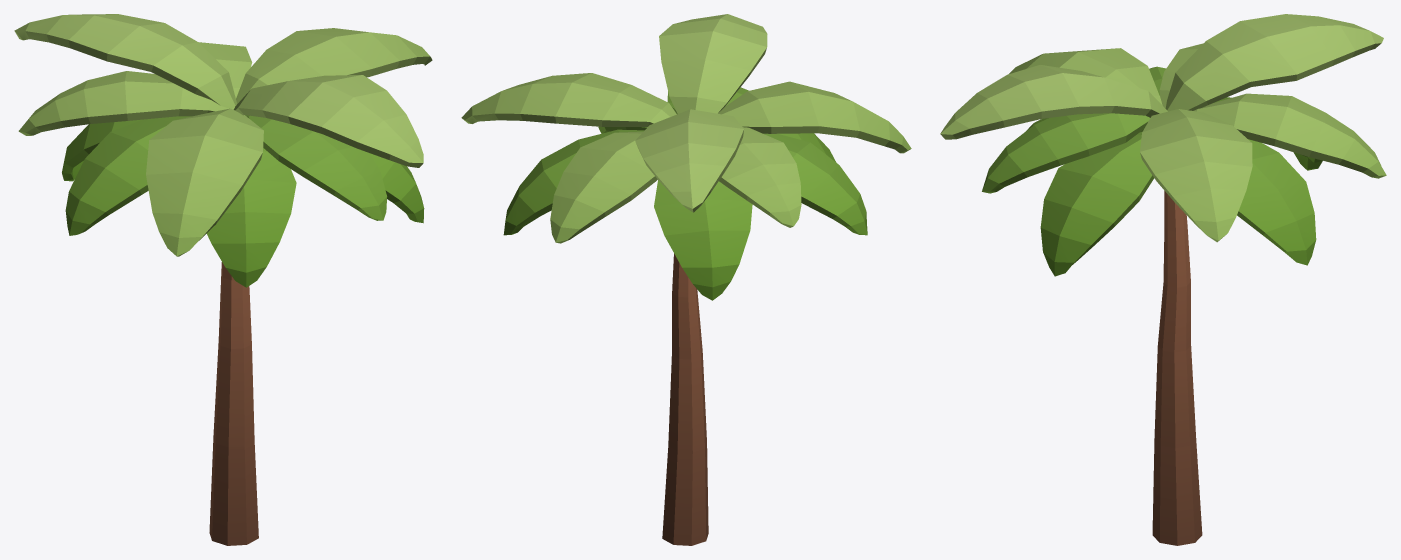
Rendered from palm tree large.fbx.
3 renders of one model, left to right at view 1: azimuth 30°, elevation 25°; view 2: azimuth 150°, elevation 25°; view 3: azimuth 270°, elevation 25°, orthographic. The views are drawn at different scales.
Parts seen in each view (by area): view 1: palm tree large; view 2: palm tree large; view 3: palm tree large.
Part boxes in pixels (x1,y1,x2,y2): palm tree large: (14, 14, 432, 545); palm tree large: (461, 14, 911, 545); palm tree large: (940, 14, 1386, 545).
Bounding box in the file's own units: 609 × 715 × 608.
